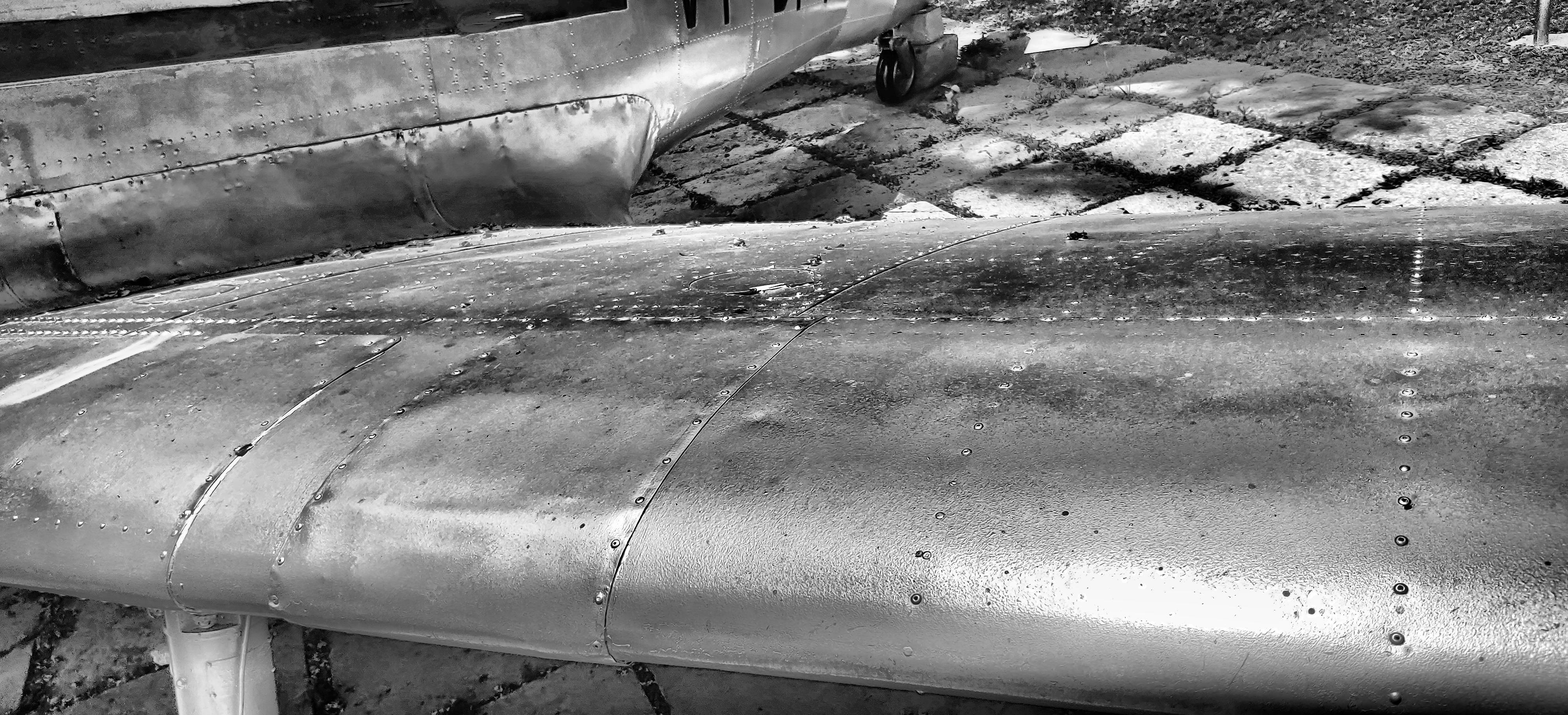crack: (54, 212, 62, 232)
dent: (631, 109, 659, 183), (6, 183, 54, 218), (497, 144, 518, 188), (51, 246, 73, 276), (615, 92, 647, 108), (566, 99, 589, 114)
missing-head: (33, 199, 43, 209), (396, 132, 400, 140), (139, 180, 143, 185), (64, 193, 68, 198), (554, 105, 558, 110)
scratch: (425, 182, 461, 231)
